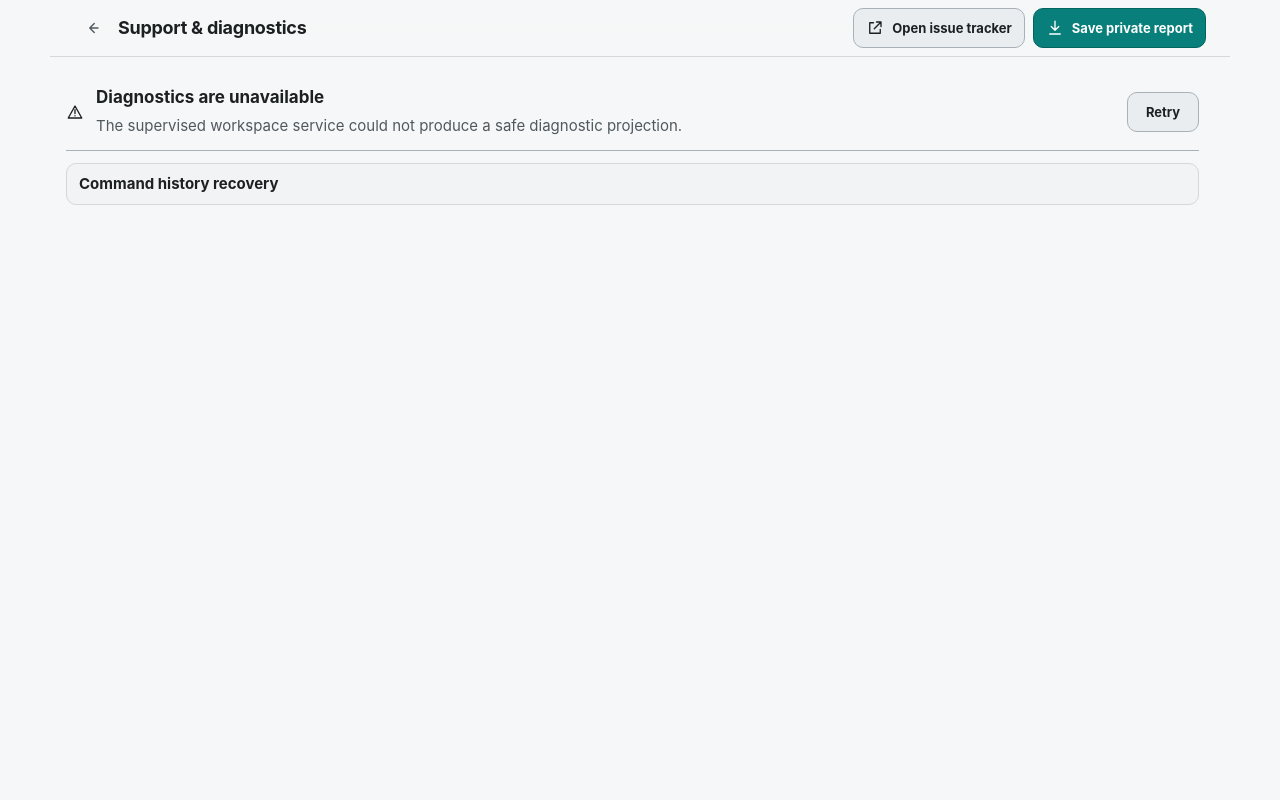
command history recovery › remains available when diagnostics fail and retries the exact preview after confirmation failure
This screenshot has width=1280, height=800.
Expected: the heading "Diagnostics are unavailable" is shown, [96,87,324,107]
Click the heading "Command history recovery".
click(179, 184)  # box [79,174,278,193]
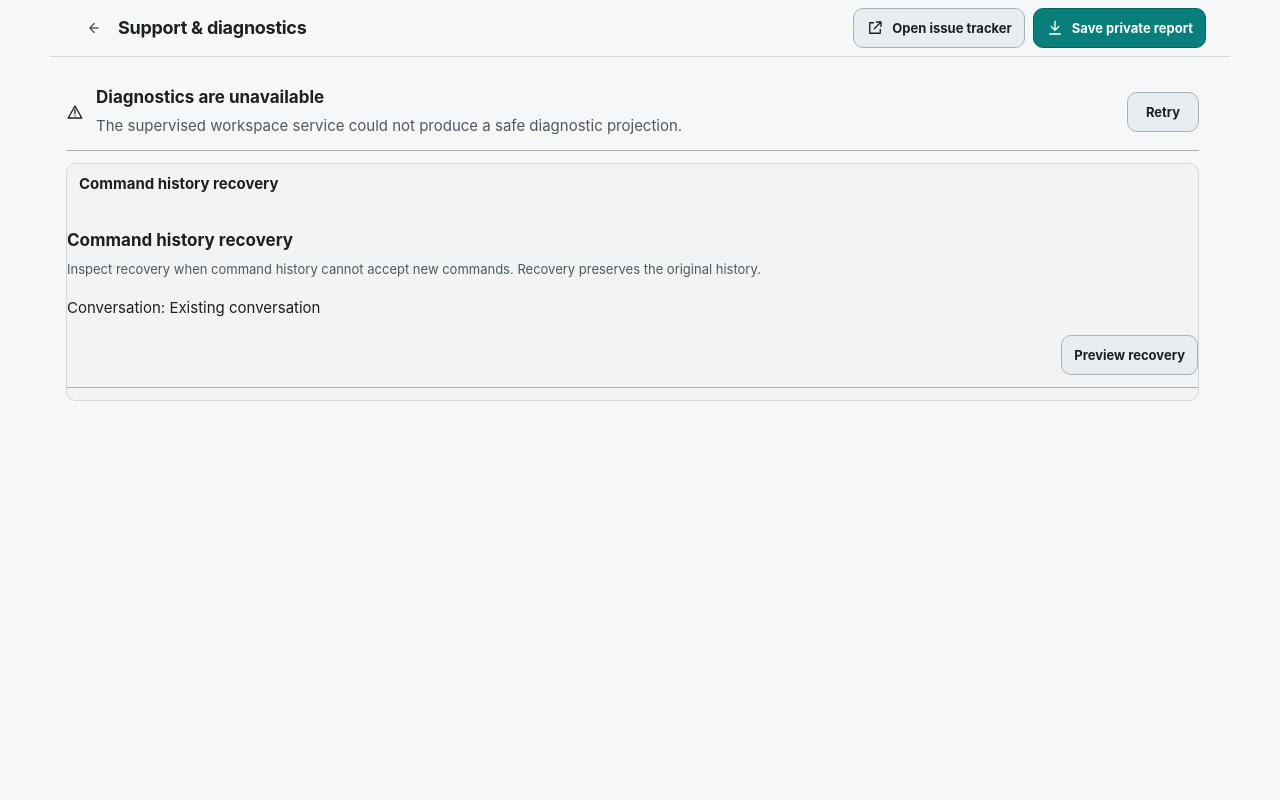
Click the button "Preview recovery".
click(1130, 355)  # box [1061,335,1198,375]
(page scrolled)
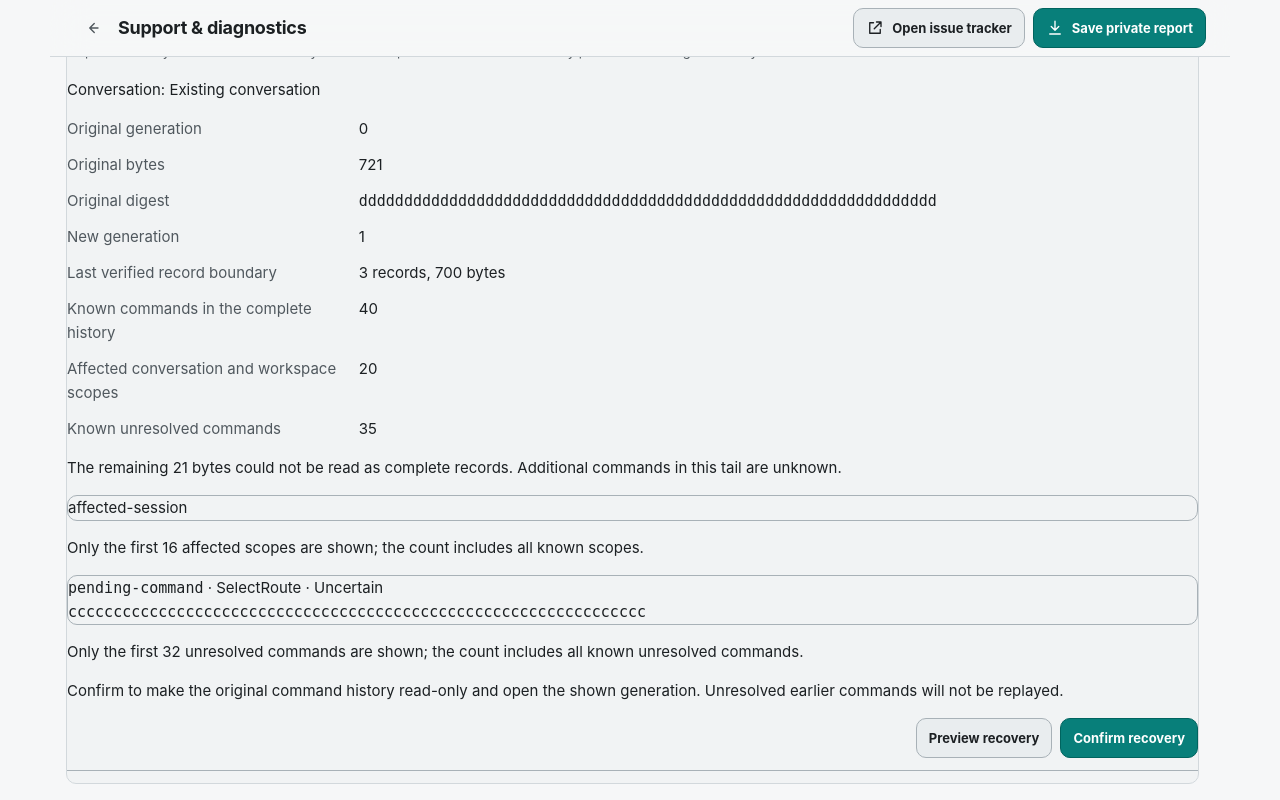
Result: the text "721" is shown at [359,155,383,174]
Result: the text "3 records, 700 bytes" is shown at [359,263,505,282]
Result: the text "35" is shown at [359,419,377,438]
Click the button "Confirm recovery".
click(1129, 738)  # box [1060,718,1198,758]
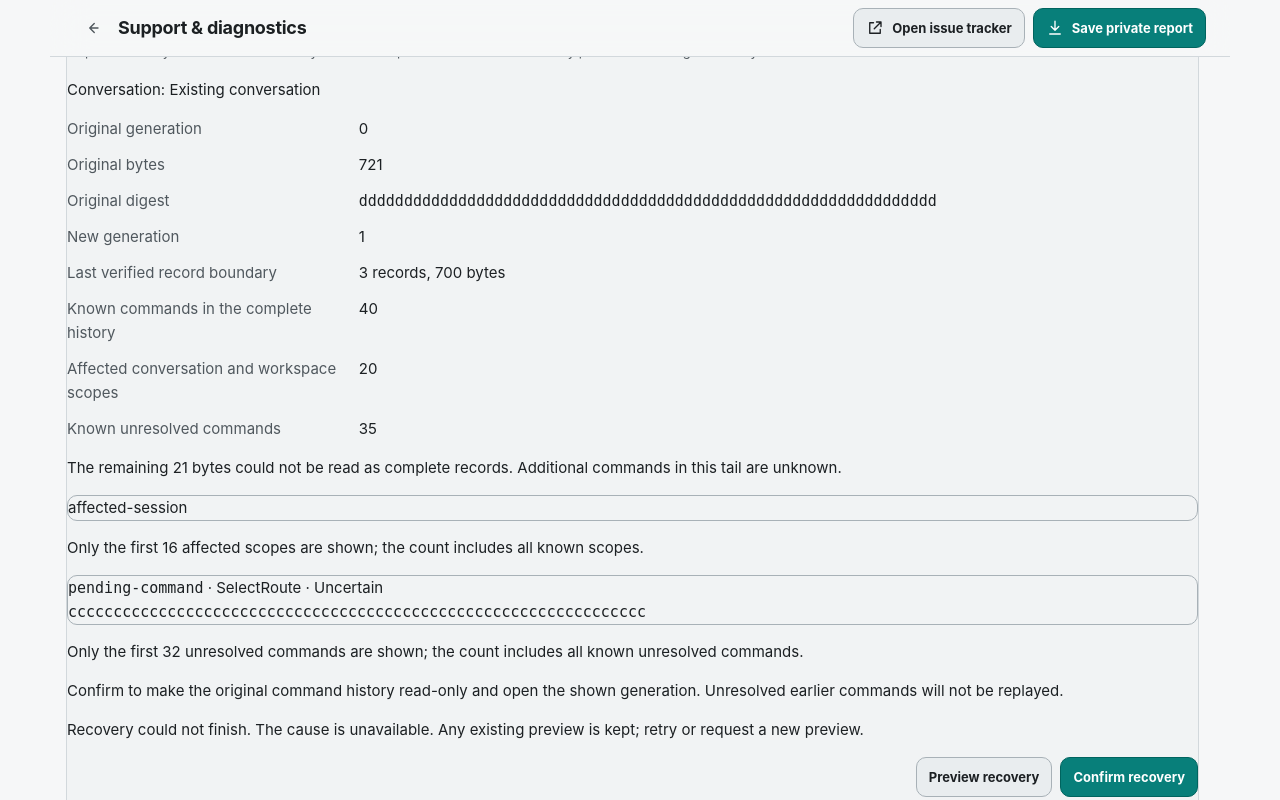
Result: the text "Recovery could not finish" is shown at [67,720,864,739]
Click the button "Confirm recovery".
click(1129, 777)  # box [1060,757,1198,797]
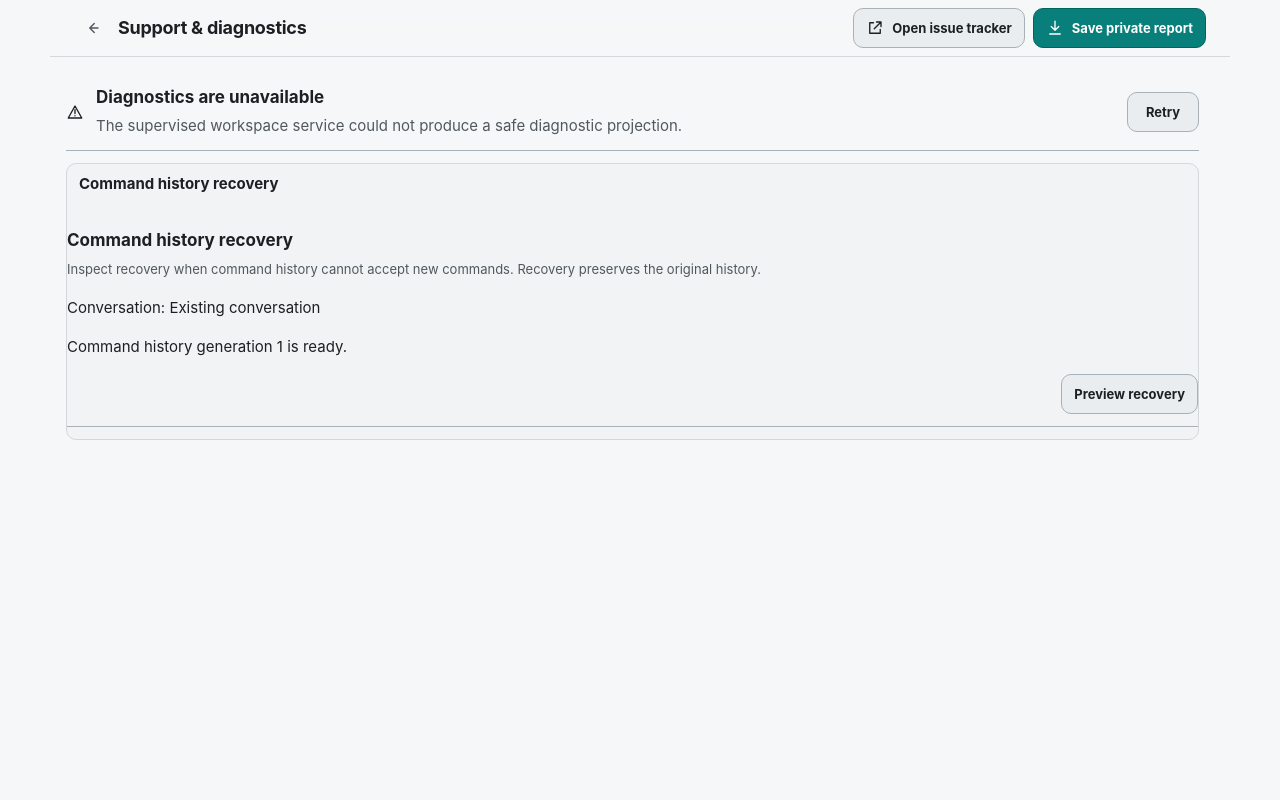
Result: the text "Command history generation 1 is ready." is shown at [67,337,347,356]
